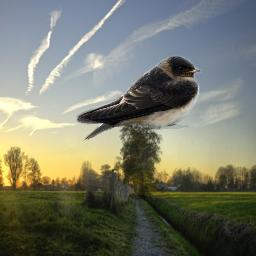Swallow: (76, 55, 202, 141)
